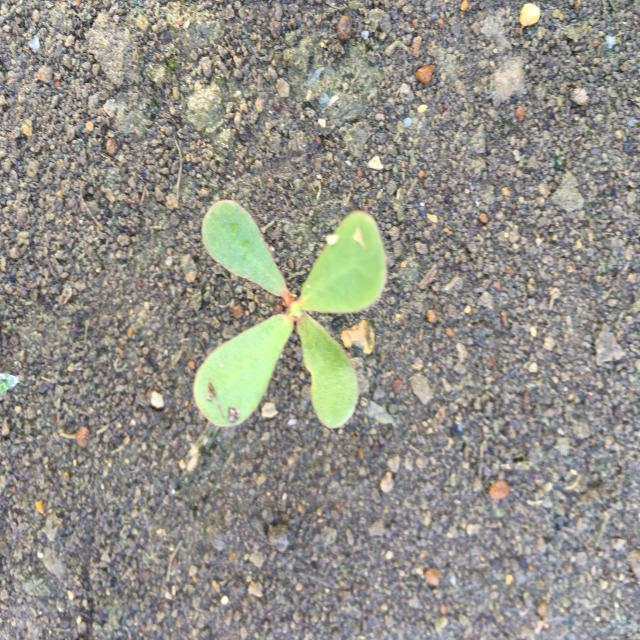Purslane: (191, 196, 390, 432)
